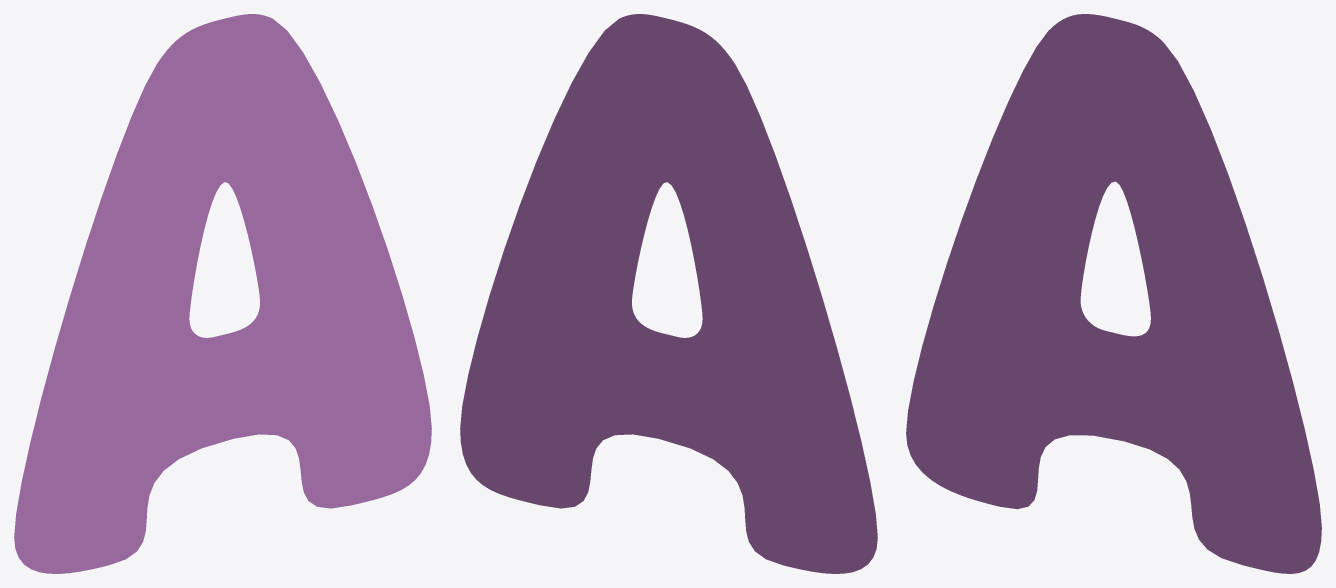
3 views of the same model, side by side, from view 1: azimuth 30°, elevation 25°; view 2: azimuth 150°, elevation 25°; view 3: azimuth 330°, elevation 25° (orthographic).
Parts seen in each view (by area): view 1: テキスト; view 2: テキスト; view 3: テキスト.
Part boxes in pixels (bbox=[...]): テキスト: bbox=[14, 14, 431, 573]; テキスト: bbox=[460, 14, 877, 573]; テキスト: bbox=[906, 14, 1321, 573].
Size of the model in its own units: 0.4539 by 0.5384 by 0.
Materials: 1 (1 with a texture image).
